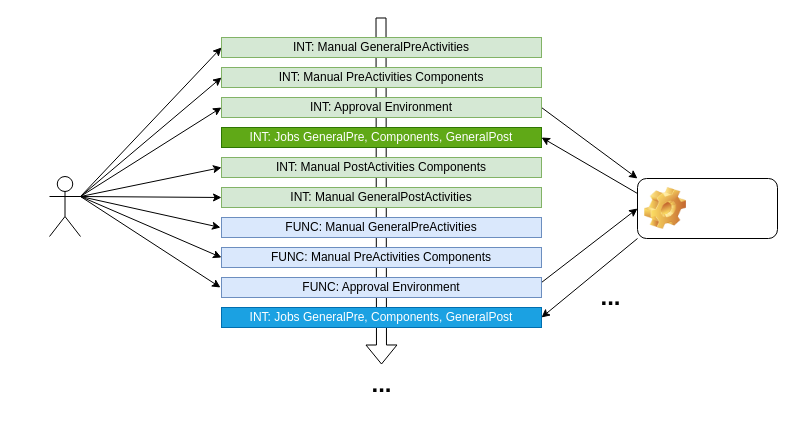
Some shapes in this 795 by 422 pixel diagram are drawn without their labels. The box of each missing label's shape, as (x1, y1, x2, y2) in pixels:
CI/CD-Engine: (636, 178, 778, 238)
Integrator / Release Manager: (48, 176, 80, 236)
